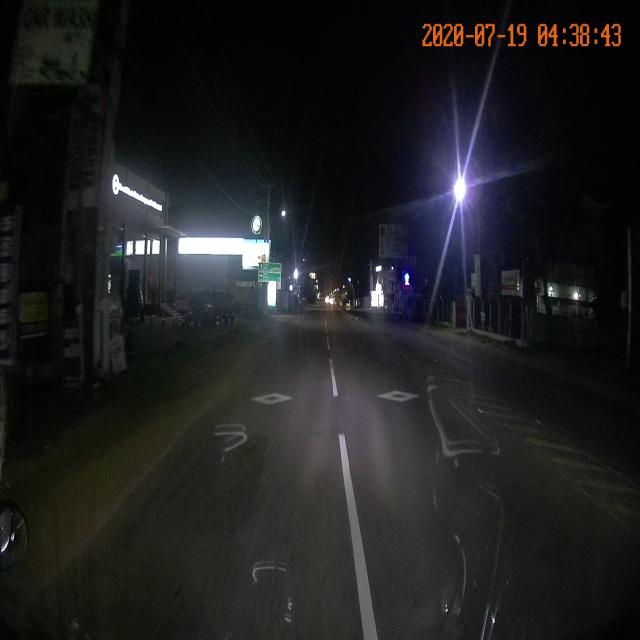diamond: (216, 376, 344, 413)
